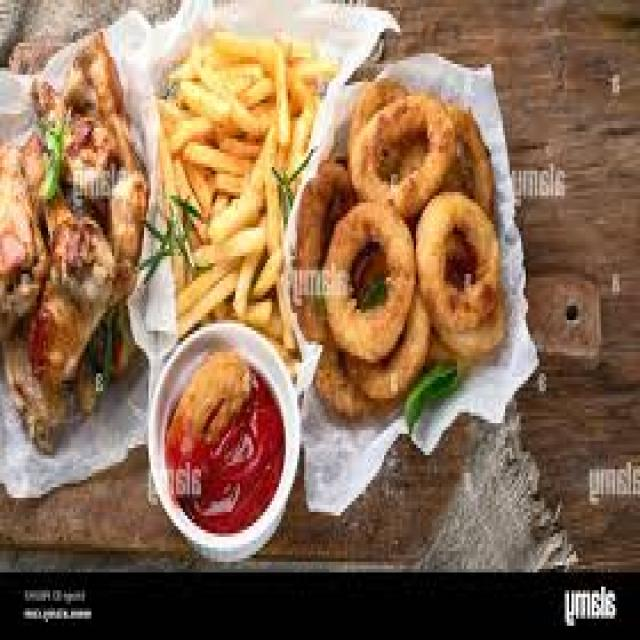Chicken Wings: (2, 25, 149, 451)
French Fries: (153, 21, 338, 342)
Onion Rings: (300, 68, 505, 438), (169, 345, 254, 455)
